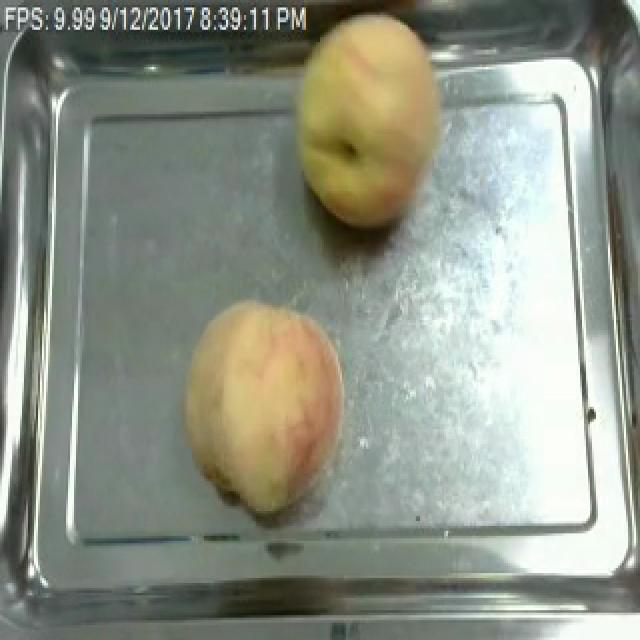Fruit: (172, 293, 354, 521), (278, 5, 456, 238)
